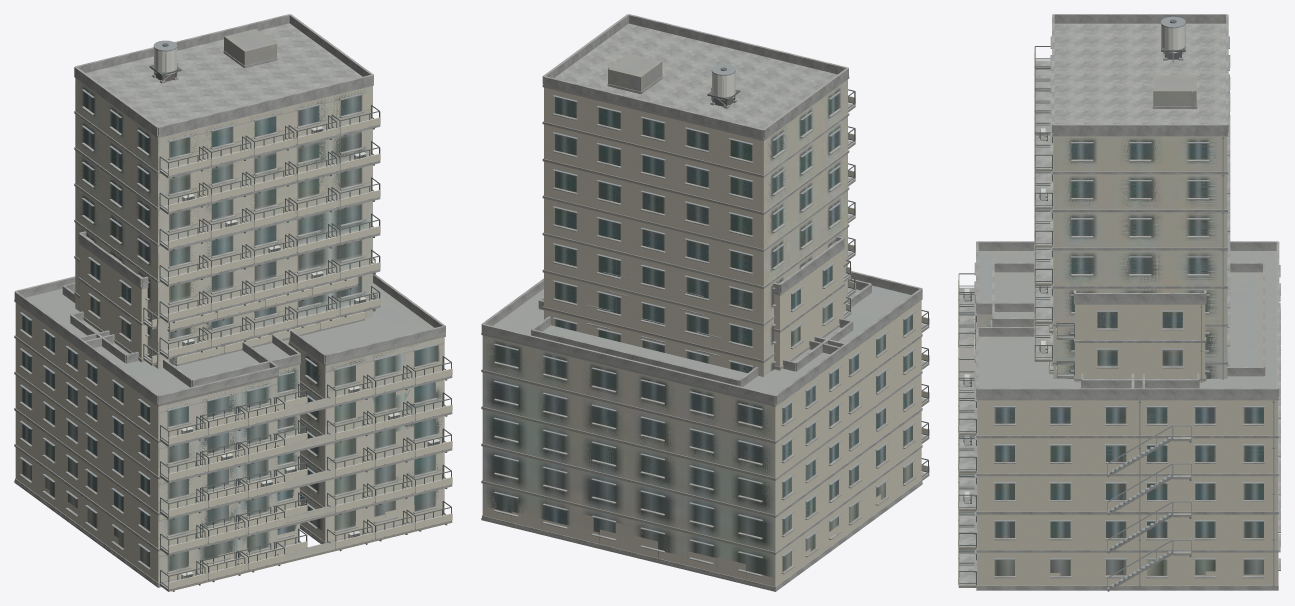
File: building_01.glb
3 renders of one model, left to right at view 1: azimuth 30°, elevation 25°; view 2: azimuth 150°, elevation 25°; view 3: azimuth 270°, elevation 25°, orthographic. The views are drawn at different scales.
Parts seen in each view (by area): view 1: building_036_lod1_Cladding, building_039_lod1_Structure, building_039_normal_Structure, building_036_normal_Cladding, building_039_lod2_Structure, building_036_lod2_Cladding, building_036_normal_Structure, building_039_normal_Cladding, building_039_normal_Metalwork, building_036_normal_Metalwork, building_040_normal_Cladding, building_035_normal_Cladding (+9 smaller); view 2: building_036_lod2_Cladding, building_039_normal_Cladding, building_036_lod1_Cladding, building_039_lod1_Structure, building_039_normal_Structure, building_036_normal_Cladding, building_036_normal_Structure, building_039_lod2_Structure, building_040_normal_Cladding, building_036_wreck_Cladding, building_039_normal_Metalwork, building_036_normal_Metalwork (+4 smaller); view 3: building_036_normal_Cladding, building_039_lod1_Structure, building_039_normal_Structure, building_036_normal_Structure, building_039_lod2_Structure, building_036_lod1_Cladding, building_040_normal_Cladding, building_035_lod1_Cladding, building_036_normal_Metalwork, building_039_normal_Metalwork, building_040_normal_Structure, building_036_lod2_Cladding (+9 smaller).
Boxes of the visible parts, x1,y1,x2,y2 form: building_036_lod1_Cladding: (14, 283, 452, 591); building_039_lod1_Structure: (74, 28, 372, 368); building_039_normal_Structure: (74, 14, 380, 359); building_036_normal_Cladding: (15, 303, 452, 588); building_039_lod2_Structure: (75, 79, 372, 368); building_036_lod2_Cladding: (22, 316, 444, 571); building_036_normal_Structure: (14, 275, 451, 589); building_039_normal_Cladding: (154, 48, 380, 356); building_039_normal_Metalwork: (81, 29, 380, 359); building_036_normal_Metalwork: (19, 312, 451, 591); building_040_normal_Cladding: (80, 244, 156, 362); building_035_normal_Cladding: (202, 396, 307, 573); building_036_lod2_Cladding: (482, 315, 912, 579); building_039_normal_Cladding: (544, 72, 855, 376); building_036_lod1_Cladding: (481, 285, 929, 591); building_039_lod1_Structure: (542, 54, 855, 376); building_039_normal_Structure: (542, 14, 855, 362); building_036_normal_Cladding: (775, 300, 929, 586); building_036_normal_Structure: (481, 271, 928, 591); building_039_lod2_Structure: (555, 80, 847, 376); building_040_normal_Cladding: (774, 250, 851, 370); building_036_wreck_Cladding: (483, 494, 882, 586); building_039_normal_Metalwork: (552, 64, 855, 367); building_036_normal_Metalwork: (493, 310, 928, 558); building_036_normal_Cladding: (958, 280, 1277, 585); building_039_lod1_Structure: (1034, 28, 1227, 378); building_039_normal_Structure: (1035, 14, 1230, 364); building_036_normal_Structure: (959, 241, 1280, 590); building_039_lod2_Structure: (1053, 136, 1227, 378); building_036_lod1_Cladding: (958, 251, 1278, 588); building_040_normal_Cladding: (1056, 304, 1205, 382); building_035_lod1_Cladding: (994, 272, 1264, 376); building_036_normal_Metalwork: (958, 262, 1280, 589); building_039_normal_Metalwork: (1034, 16, 1229, 379); building_040_normal_Structure: (1056, 290, 1206, 380); building_036_lod2_Cladding: (977, 314, 1263, 575).
Bounding box in the file's own units: 24.58 × 36.07 × 22.27.
Materials: 57 (56 with a texture image).
